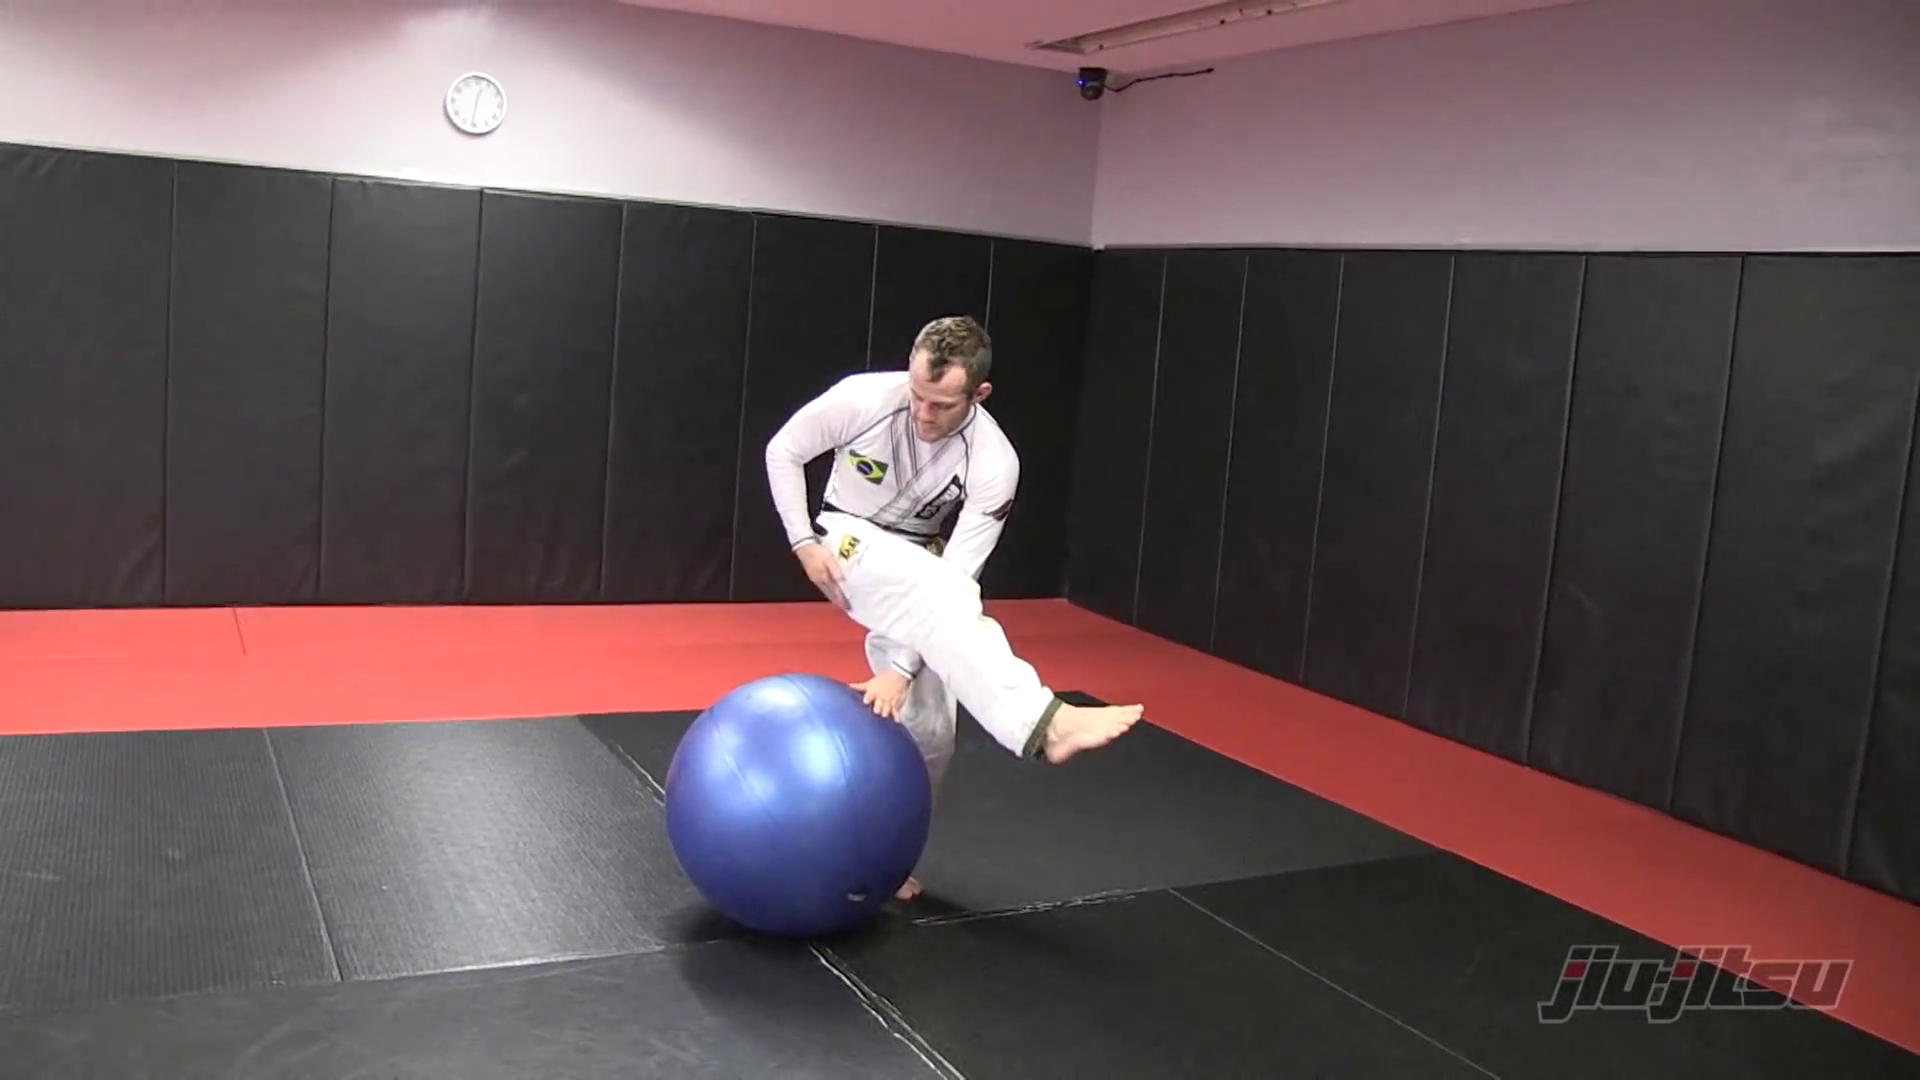yogaball: (654, 669, 951, 960)
